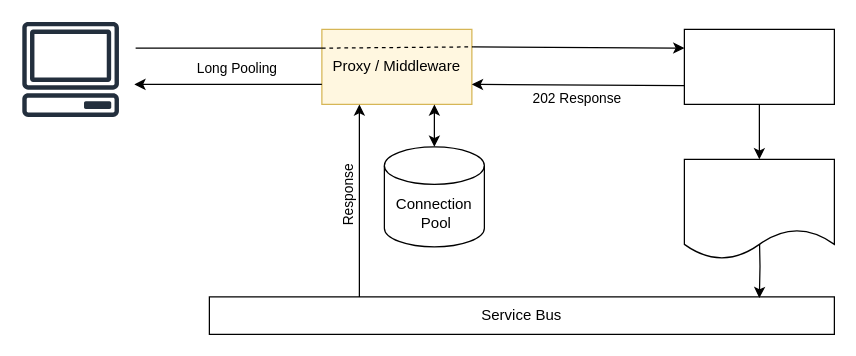
Image size: 856x356. Some labels were removed from this diagram. Each missing label, with the box of its shape:
Internal Services: (683, 158, 834, 259)
Service: (683, 28, 834, 104)
